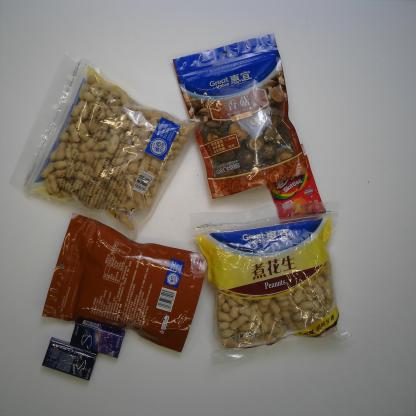Candy: (264, 141, 327, 225)
Dried Food: (7, 50, 206, 242), (187, 198, 356, 369), (40, 212, 209, 354), (171, 32, 310, 202)
Gum: (40, 336, 98, 382), (69, 315, 127, 360)
